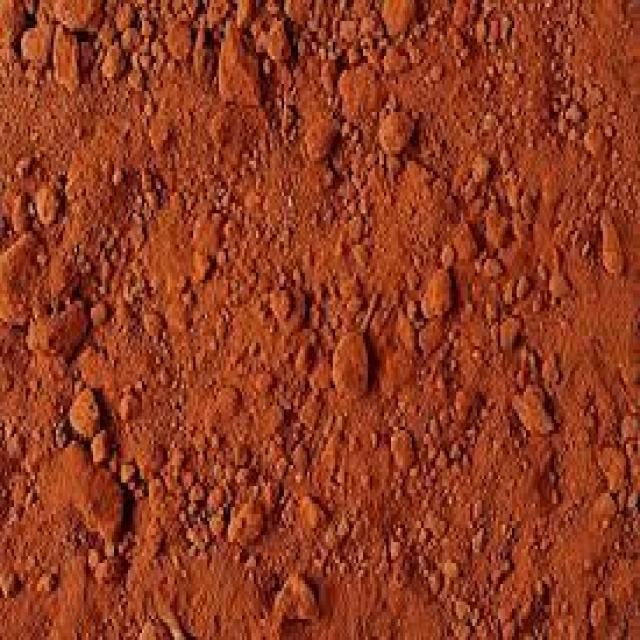Red Soil: (71, 84, 606, 553)
